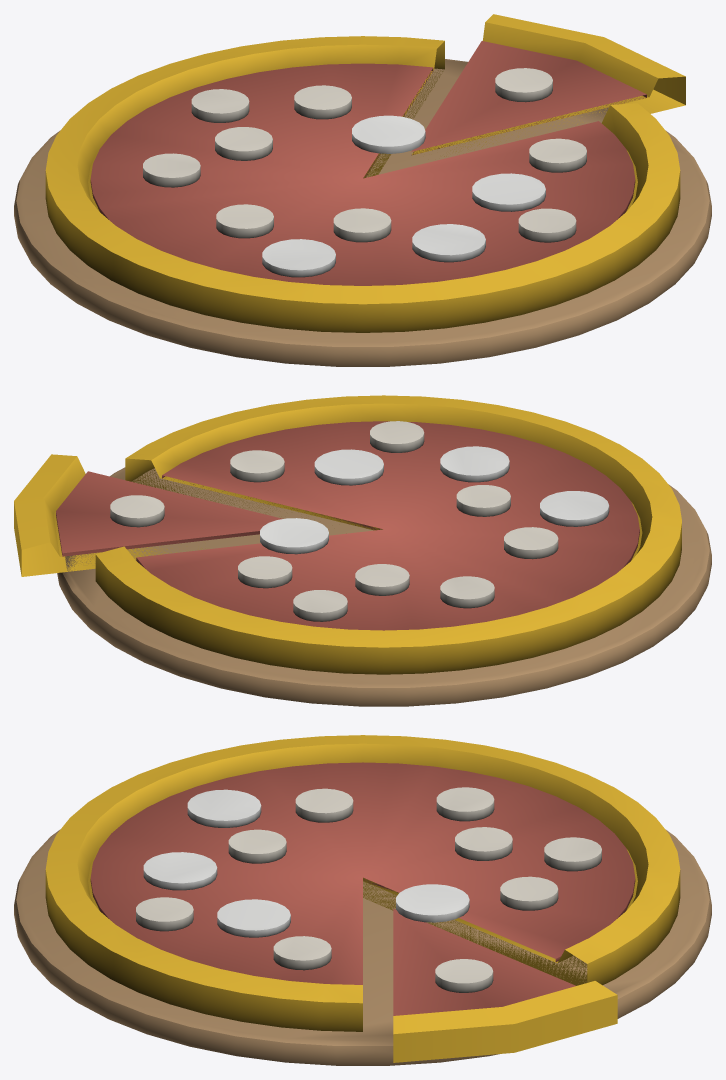
The model's file is meal_pizza.glb.
3 views of the same model, one above another, from view 1: azimuth 30°, elevation 25°; view 2: azimuth 150°, elevation 25°; view 3: azimuth 270°, elevation 25° (orthographic). The views are drawn at different scales.
Parts seen in each view (by area): view 1: PART; view 2: PART; view 3: PART.
Boxes of the visible parts, left/top/right/bottom form: PART: left=14, top=14, right=711, bottom=366; PART: left=14, top=395, right=711, bottom=706; PART: left=14, top=735, right=711, bottom=1065.
Bounding box in the file's own units: 0.2793 × 0.024 × 0.264.
